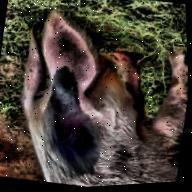boar: (3, 0, 192, 191), (178, 5, 187, 40)
